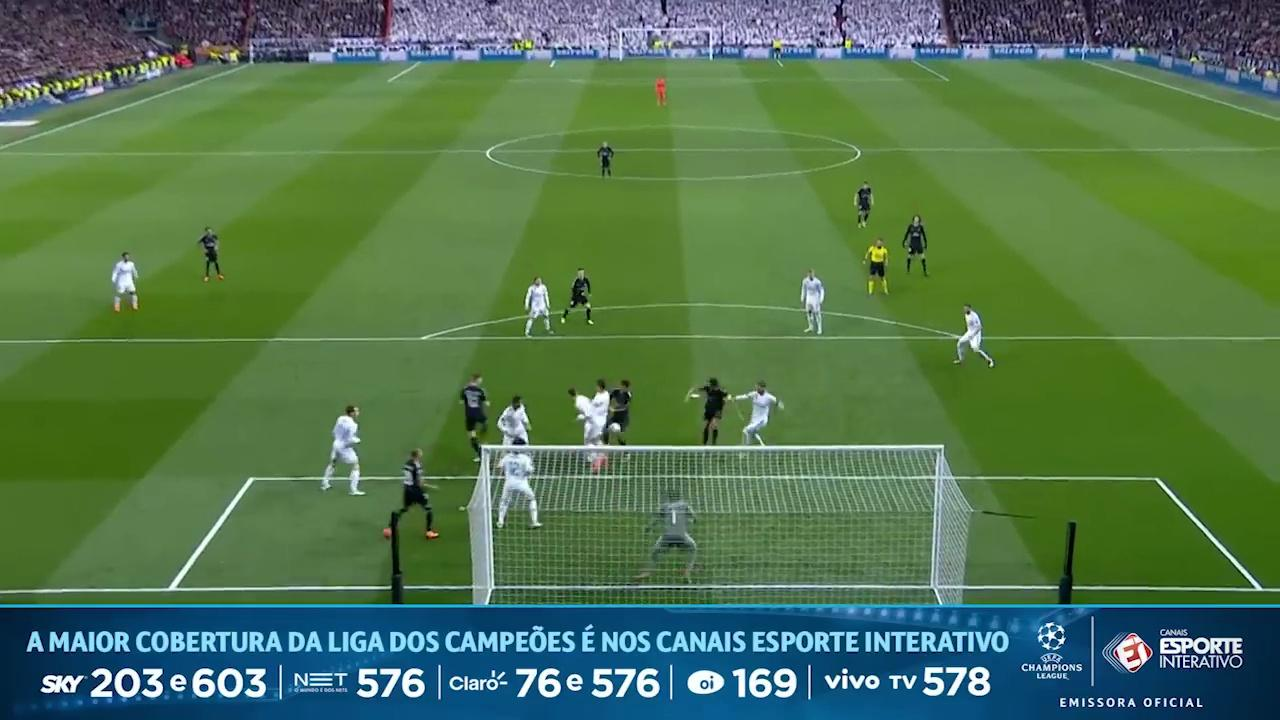player: (637, 493, 696, 581), (497, 440, 541, 527), (321, 406, 364, 495), (396, 449, 438, 539), (733, 382, 783, 444), (688, 377, 729, 444), (460, 373, 489, 462), (954, 304, 994, 366), (568, 388, 602, 445), (561, 268, 592, 324), (497, 395, 530, 445), (606, 379, 631, 444), (524, 277, 552, 335), (111, 253, 138, 311), (903, 215, 928, 277), (801, 269, 824, 334), (197, 227, 224, 281), (591, 379, 610, 441), (855, 181, 873, 227), (597, 142, 613, 177), (655, 76, 667, 107)
referee: (865, 238, 888, 295)
